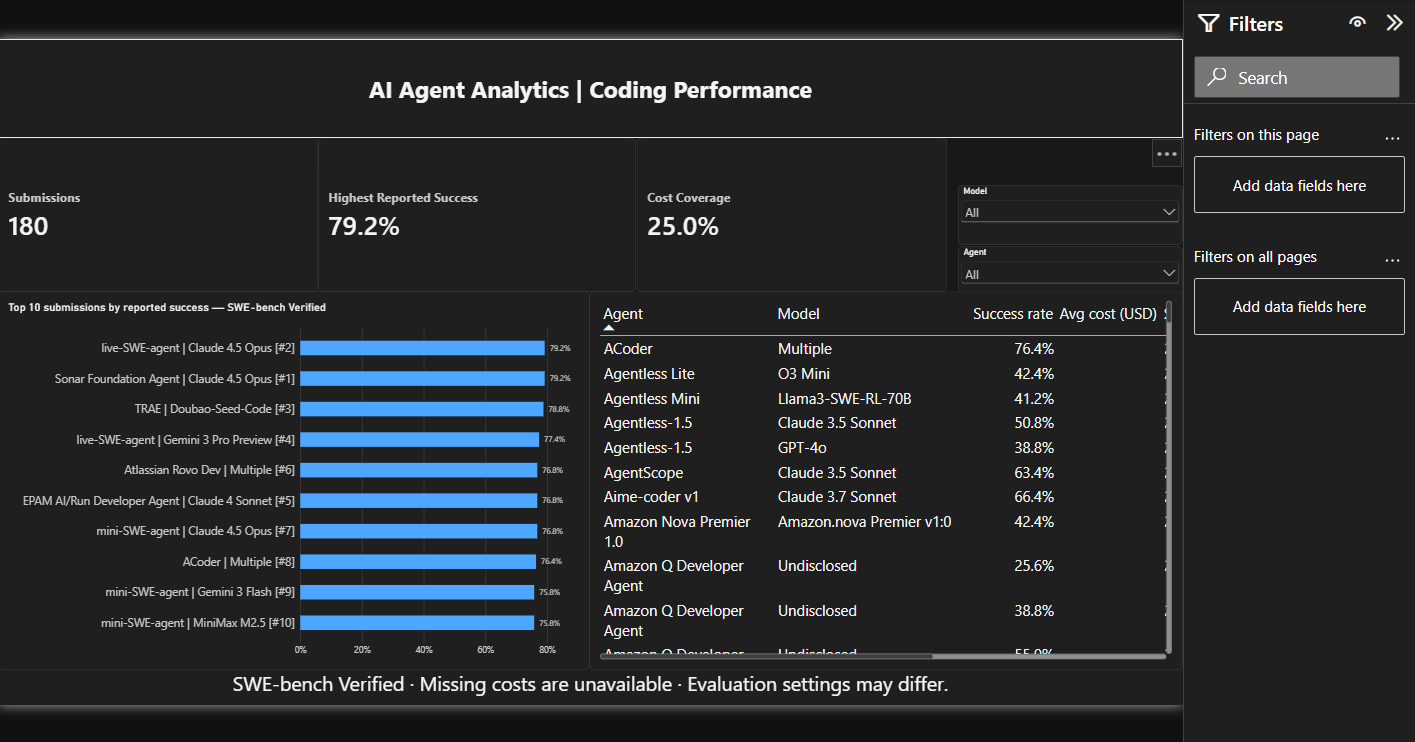

Layout of this report page (visuals, bound fields, positions):
{"tool":"powerbi","page":{"name":"Coding Performance","canvas":[1920,1080],"ordinal":0},"visuals":[{"type":"cardVisual","fields":{"Data":["reliability_dashboard.Submissions"]},"box":[0,159.3,518.4,250.4],"z":0},{"type":"cardVisual","fields":{"Data":["reliability_dashboard.Highest Reported Success"]},"box":[518.4,159.3,515.9,250.4],"z":1000},{"type":"cardVisual","fields":{"Data":["reliability_dashboard.Cost Coverage"]},"box":[1034.4,159.3,503.3,250.4],"z":2000},{"type":"clusteredBarChart","title":"Top 10 submissions by reported success — SWE-bench Verified","fields":{"Category":["verified_dashboard.Submission label"],"Y":["Max(verified_dashboard.success_rate)"]},"box":[0,409.6,959.2,613.4],"z":3000},{"type":"slicer","fields":{"Values":["verified_dashboard.agent_name"]},"box":[1556.1,335.5,364.3,90.6],"z":4000},{"type":"slicer","fields":{"Values":["verified_dashboard.model_name"]},"box":[1555.3,237.7,364.3,96.7],"z":5000},{"type":"tableEx","fields":{"Values":["verified_dashboard.agent_name","verified_dashboard.model_name","verified_dashboard.success_rate","verified_dashboard.avg_reported_task_cost_usd","verified_dashboard.submission_id"]},"box":[959.2,409.6,961.2,613.4],"z":6000},{"type":"textbox","box":[0,0,1920.4,160.5],"z":7000},{"type":"textbox","box":[0,1023,1920.4,57.6],"z":8000}]}

Visuals, with their boxes on the page's 1920x1080 design canvas (x1, y1, x2, y2). These are canvas units, not pixel positions in the 1415x742 screenshot, which may show the page scaled, cropped or inside an application window:
cardVisual - reliability_dashboard.Submissions: left=0, top=159, right=518, bottom=410
cardVisual - reliability_dashboard.Highest Reported Success: left=518, top=159, right=1034, bottom=410
cardVisual - reliability_dashboard.Cost Coverage: left=1034, top=159, right=1538, bottom=410
"Top 10 submissions by reported success — SWE-bench Verified" clusteredBarChart: left=0, top=410, right=959, bottom=1023
slicer - verified_dashboard.agent_name: left=1556, top=336, right=1920, bottom=426
slicer - verified_dashboard.model_name: left=1555, top=238, right=1920, bottom=334
tableEx - verified_dashboard.agent_name x verified_dashboard.model_name: left=959, top=410, right=1920, bottom=1023
textbox: left=0, top=0, right=1920, bottom=160
textbox: left=0, top=1023, right=1920, bottom=1081
